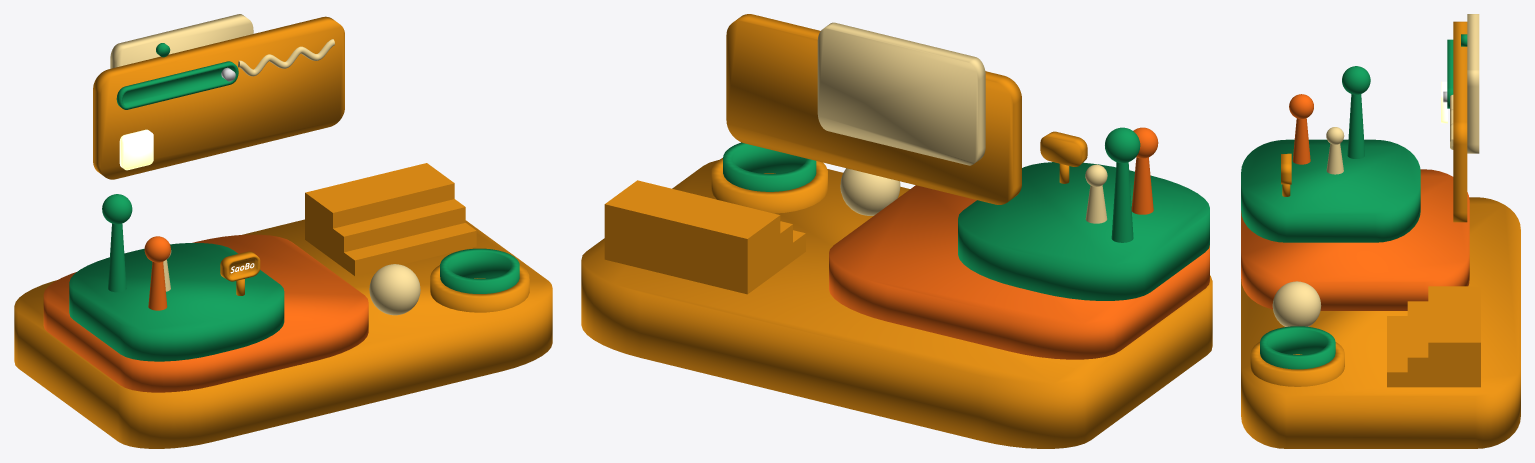
File: moduel.glb
The picture shows the model from 3 angles, left to right: view 1: azimuth 30°, elevation 25°; view 2: azimuth 150°, elevation 25°; view 3: azimuth 270°, elevation 25°; orthographic projection. The views are drawn at different scales.
Visible parts, largest first — view 1: Cube, Cube.007, Cube.001, Cube.002, Cube.012, Cube.010, Cylinder.008, Cube.009, Cylinder.007, Sphere, Cylinder, Cylinder.002 (+3 smaller); view 2: Cube, Cube.001, Cube.002, Cube.007, Cube.010, Cube.012, Cylinder.008, Cylinder.007, Cylinder, Sphere, Cylinder.002, Cylinder.006 (+1 smaller); view 3: Cube, Cube.001, Cube.002, Cube.012, Cube.007, Cylinder.008, Cylinder.007, Sphere, Cube.010, Cylinder, Cylinder.002, Cylinder.003 (+2 smaller).
Part boxes in pixels (x1,y1,x2,y2): Cube: (14, 219, 552, 448); Cube.007: (93, 16, 344, 179); Cube.001: (43, 234, 368, 392); Cube.002: (69, 243, 284, 361); Cube.012: (305, 163, 476, 275); Cube.010: (110, 14, 253, 68); Cylinder.008: (440, 248, 519, 293); Cube.009: (116, 61, 238, 109); Cylinder.007: (430, 265, 529, 312); Sphere: (369, 264, 420, 315); Cylinder: (102, 194, 132, 292); Cylinder.002: (144, 236, 170, 310); Cube: (581, 160, 1212, 448); Cube.001: (829, 185, 1209, 359); Cube.002: (958, 162, 1209, 300); Cube.007: (726, 14, 1021, 204); Cube.010: (817, 22, 985, 165); Cube.012: (604, 180, 805, 294); Cylinder.008: (723, 142, 816, 191); Cylinder.007: (711, 158, 827, 213); Cylinder: (1105, 127, 1140, 242); Sphere: (840, 168, 900, 215); Cylinder.002: (1131, 127, 1158, 214); Cylinder.006: (1040, 131, 1087, 183); Cube: (1241, 197, 1520, 448); Cube.001: (1241, 169, 1469, 310); Cube.002: (1241, 139, 1420, 242); Cube.012: (1387, 286, 1480, 387); Cube.007: (1453, 21, 1467, 222); Cylinder.008: (1260, 326, 1335, 369); Cylinder.007: (1250, 342, 1344, 386); Sphere: (1272, 281, 1321, 326); Cube.010: (1467, 14, 1479, 153); Cylinder: (1342, 66, 1370, 158); Cylinder.002: (1289, 94, 1313, 164); Cylinder.003: (1326, 127, 1344, 174).
Size of what is drawn, in the model's own units: 10 by 6.63 by 5.94.
